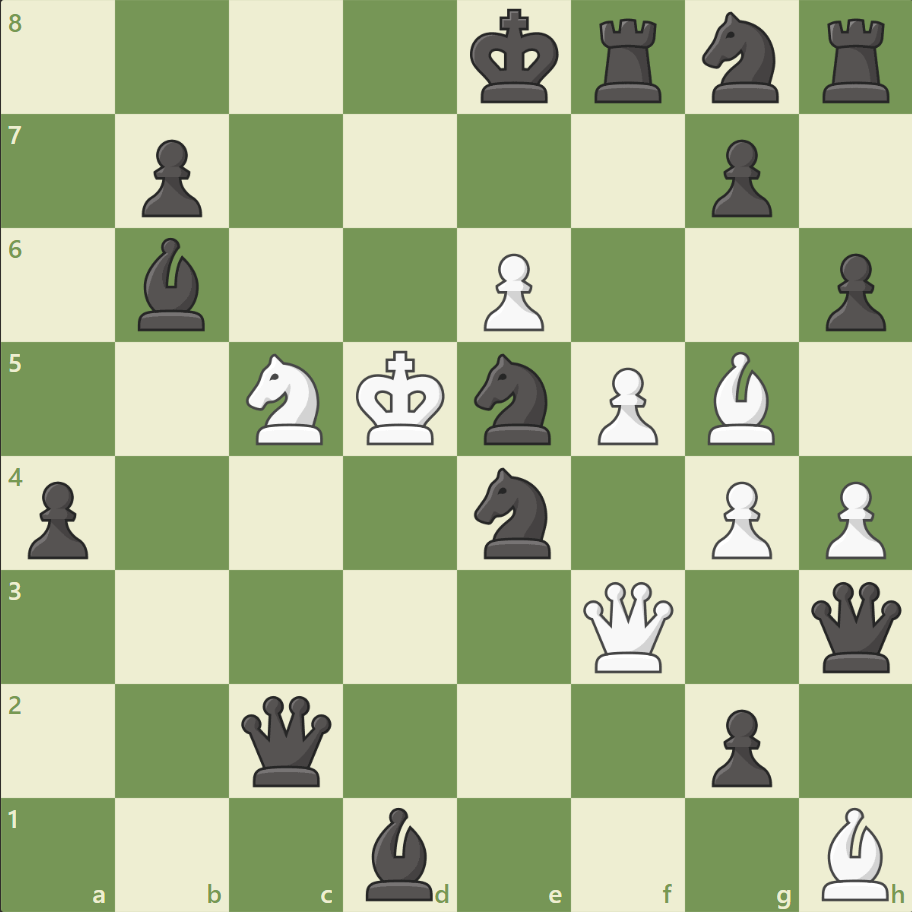B: (812, 801, 896, 904), (698, 347, 782, 449)
K: (351, 344, 451, 452)
N: (238, 348, 335, 450)
P: (474, 246, 549, 337), (701, 473, 776, 564), (588, 359, 662, 450), (815, 473, 889, 564)
Q: (578, 576, 677, 676)
b: (131, 233, 215, 336), (358, 801, 442, 904)
k: (465, 4, 565, 112)
n: (692, 7, 789, 110), (465, 461, 562, 564), (465, 348, 562, 450)
p: (133, 132, 208, 223), (701, 132, 776, 223), (20, 473, 95, 564), (701, 700, 776, 791), (815, 246, 889, 337)
q: (805, 576, 904, 676), (237, 690, 336, 789)
r: (587, 12, 670, 109), (814, 12, 897, 109)
